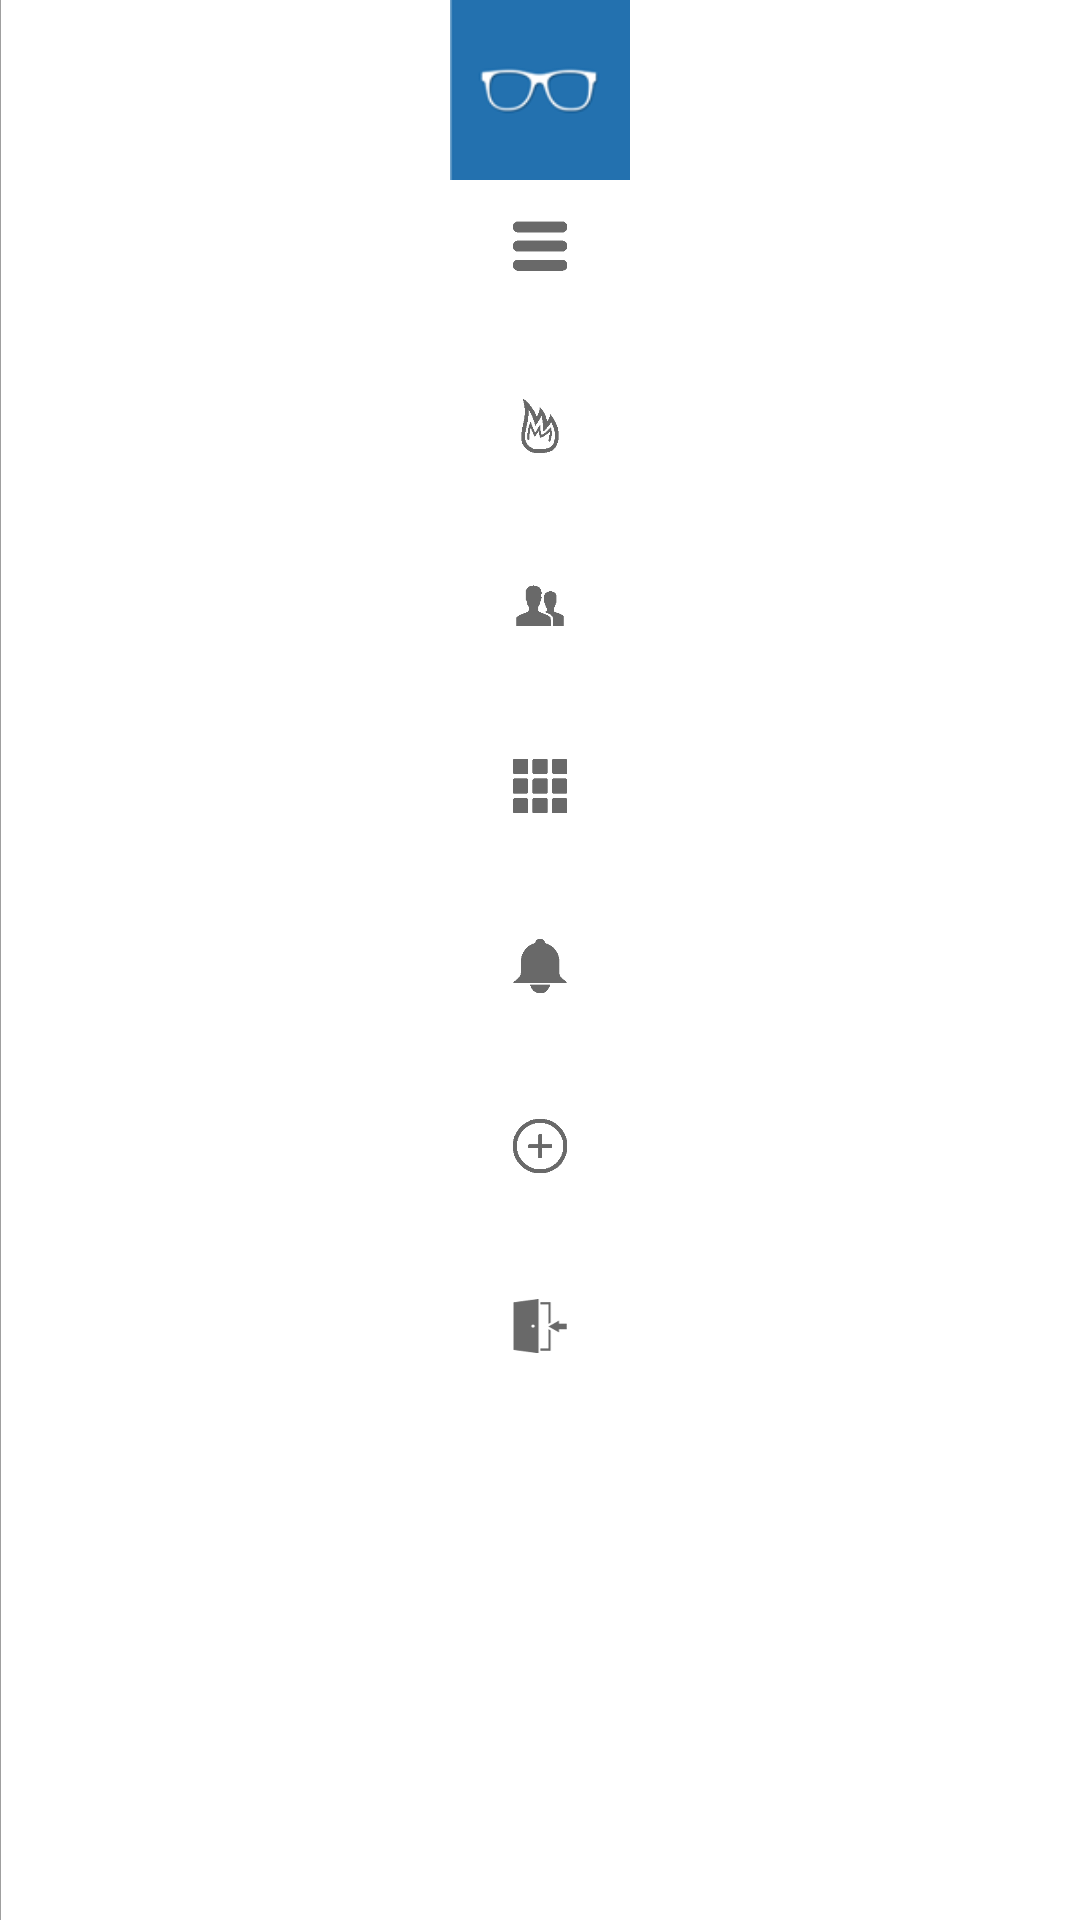

Where to tap for icons on this 1080*1920 app screen, as (x,y):
bell: (540,966)
feed: (540,246)
friends: (540,605)
hot: (540,426)
subjects: (540,786)
suggest: (540,1146)
